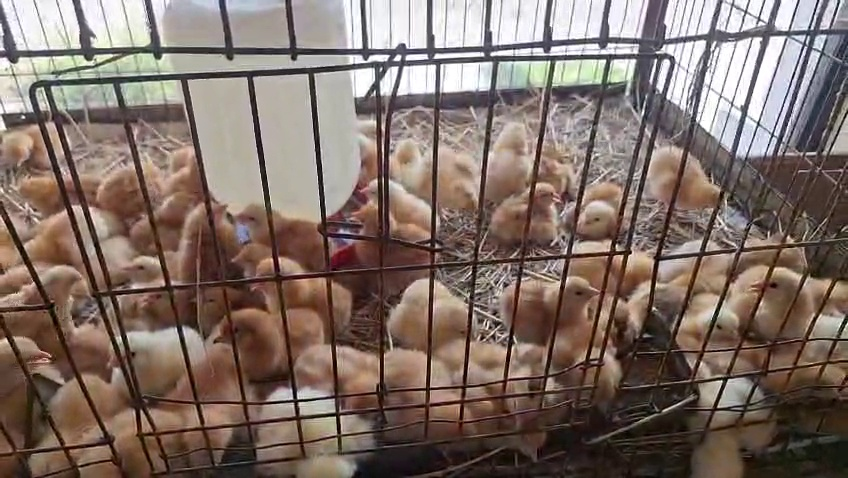Pollo: (264, 367, 398, 478), (178, 337, 276, 470), (40, 362, 142, 477), (683, 374, 782, 478), (216, 284, 334, 371), (402, 331, 486, 441), (257, 245, 361, 332), (106, 391, 205, 478), (310, 316, 409, 403), (111, 307, 209, 394), (474, 316, 572, 403), (537, 311, 635, 398), (346, 199, 450, 277), (645, 142, 735, 230), (498, 259, 605, 333), (12, 296, 111, 373), (480, 391, 578, 468), (233, 190, 350, 253), (387, 273, 476, 351), (428, 130, 504, 217), (475, 104, 550, 191), (29, 194, 123, 262), (746, 266, 824, 347), (0, 334, 49, 460), (90, 149, 169, 223), (484, 174, 563, 247), (14, 162, 111, 220), (680, 294, 760, 362), (559, 231, 663, 283), (183, 188, 257, 261), (0, 249, 92, 307), (132, 176, 206, 245), (668, 225, 751, 282), (565, 183, 640, 243), (608, 281, 681, 337), (187, 272, 261, 327), (356, 162, 444, 207), (137, 261, 208, 316), (387, 129, 445, 194), (0, 115, 68, 168), (518, 137, 573, 189), (114, 248, 189, 280), (231, 239, 294, 272)
